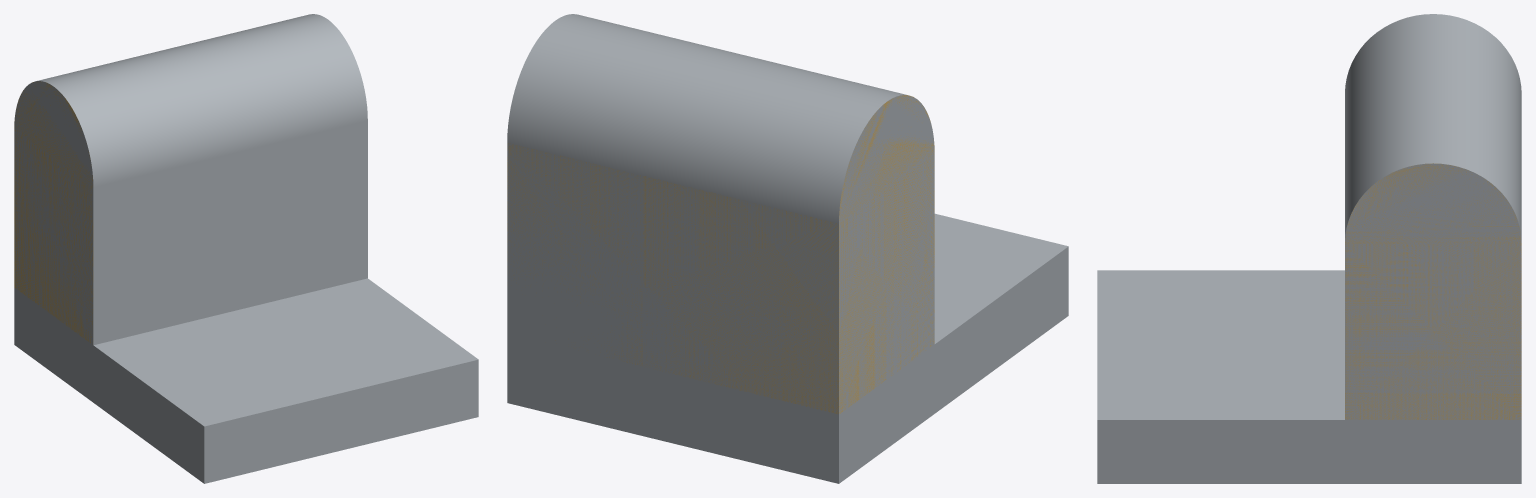
File: step_02.glb
3 views of the same model, side by side, from view 1: azimuth 30°, elevation 25°; view 2: azimuth 150°, elevation 25°; view 3: azimuth 270°, elevation 25° (orthographic). The views are drawn at different scales.
Visible parts, largest first — view 1: part__Worksheet 13 bracket, added__Worksheet 13 bracket; view 2: part__Worksheet 13 bracket, added__Worksheet 13 bracket; view 3: part__Worksheet 13 bracket, added__Worksheet 13 bracket.
Boxes of the visible parts, x1,y1,x2,y2 form: part__Worksheet 13 bracket: (14,14,478,483); added__Worksheet 13 bracket: (14,81,93,343); part__Worksheet 13 bracket: (507,14,1068,483); added__Worksheet 13 bracket: (507,95,934,413); part__Worksheet 13 bracket: (1097,14,1521,483); added__Worksheet 13 bracket: (1345,163,1521,419).
Size of the model in its own units: 100 by 100 by 120.
